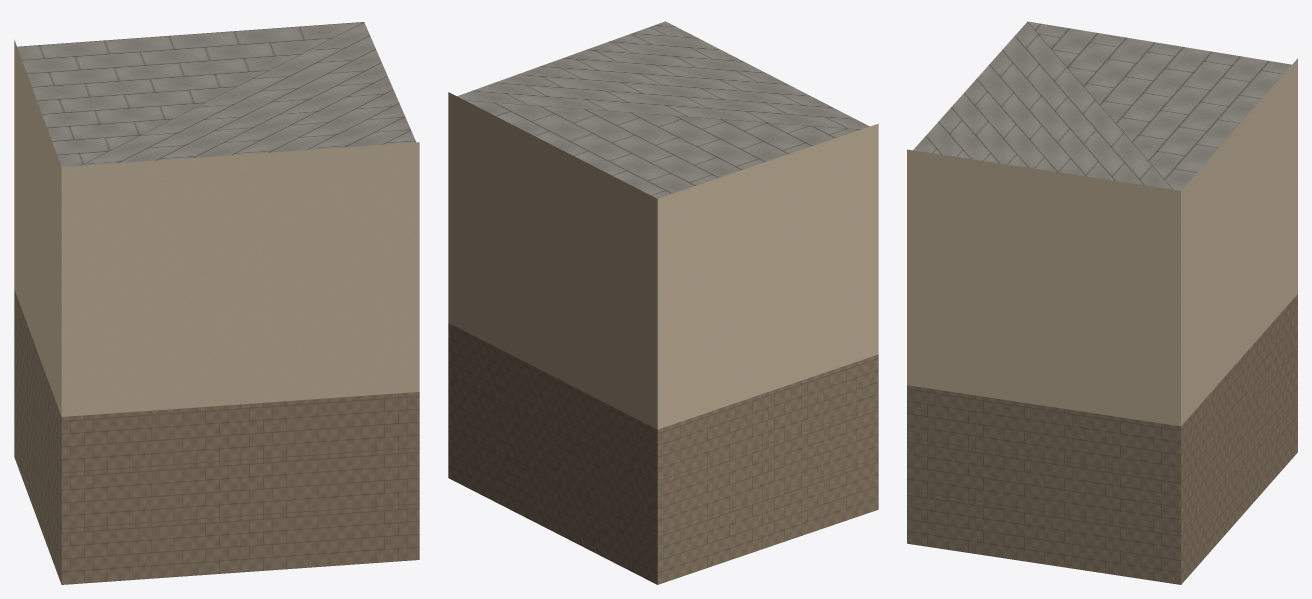
Rendered from bld_c8_7_499.gltf.
The picture shows the model from 3 angles, left to right: view 1: azimuth 30°, elevation 25°; view 2: azimuth 150°, elevation 25°; view 3: azimuth 270°, elevation 25°; orthographic projection. The views are drawn at different scales.
Visible parts, largest first — view 1: bld_c8_7_499; view 2: bld_c8_7_499; view 3: bld_c8_7_499.
Part boxes in pixels (x1,y1,x2,y2): bld_c8_7_499: (14, 22, 419, 584); bld_c8_7_499: (448, 21, 878, 584); bld_c8_7_499: (907, 21, 1297, 584).
Size of the model in its own units: 12.2 by 12.68 by 11.4.
Materials: 4 (4 with a texture image).
